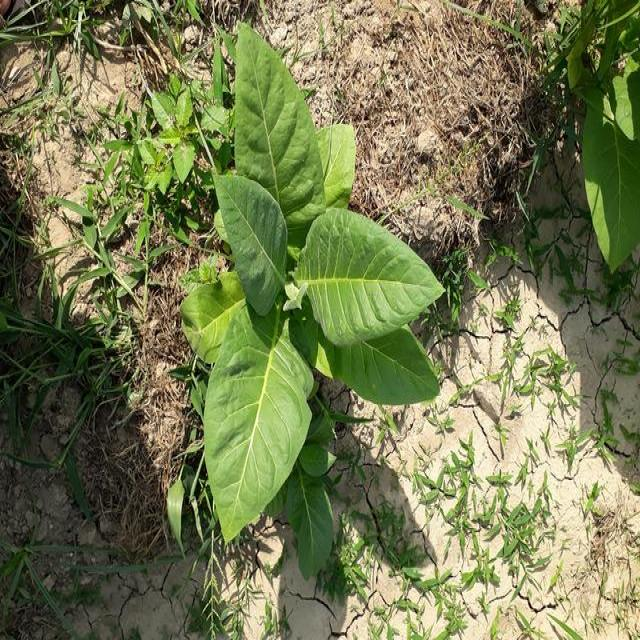crop: (172, 20, 445, 551)
